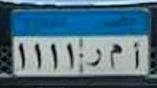1: (67, 42, 76, 70), (33, 43, 43, 68), (18, 43, 27, 69), (51, 42, 58, 70)
alif: (129, 39, 143, 73)
meem: (107, 42, 125, 69)
raa: (87, 47, 104, 68)
